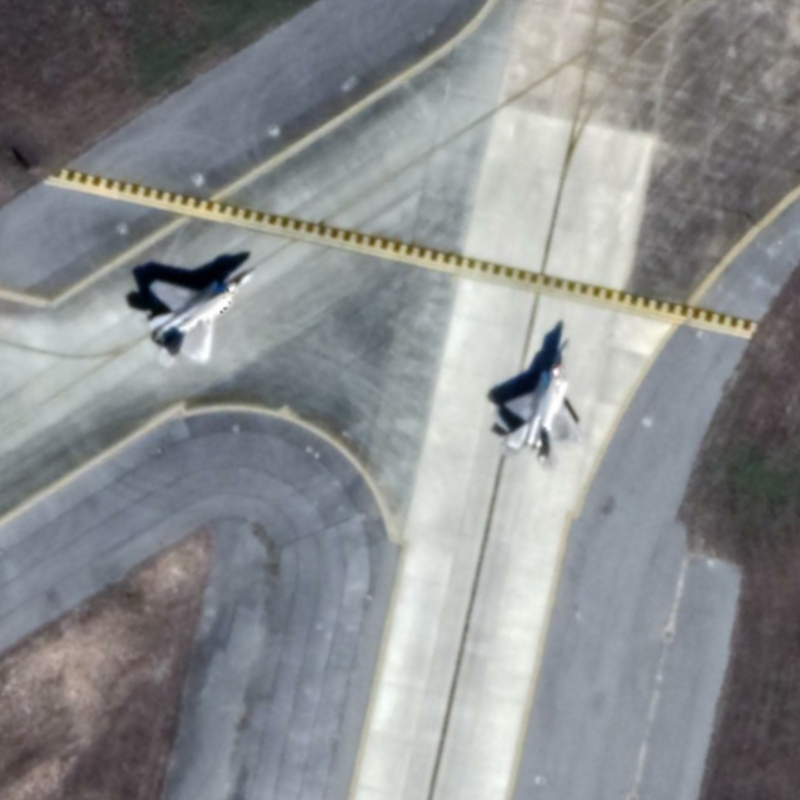A15: (486, 331, 588, 472), (139, 260, 265, 367)
